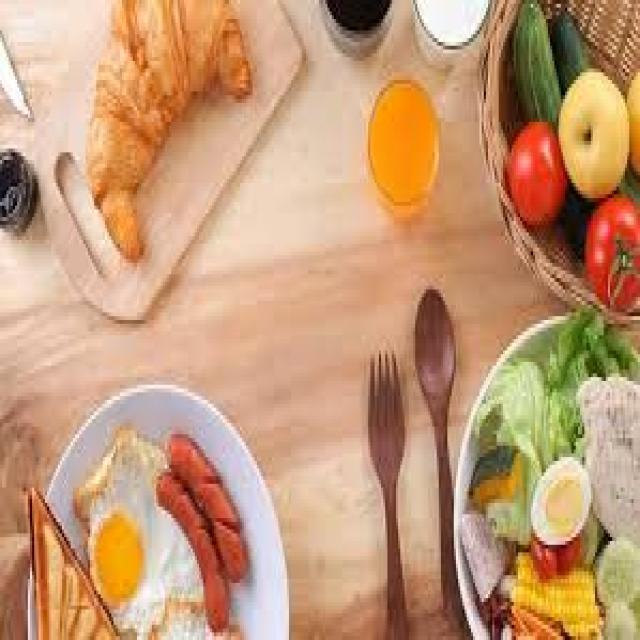Anorganik: (411, 282, 462, 628), (366, 347, 411, 636), (368, 76, 437, 206), (409, 0, 490, 69), (319, 0, 392, 61), (0, 30, 30, 114)
Organik: (82, 0, 250, 263), (68, 423, 240, 636), (552, 12, 614, 255), (26, 480, 118, 636), (544, 308, 634, 454), (154, 477, 227, 632), (167, 434, 244, 579), (574, 369, 638, 541), (554, 61, 628, 198), (368, 76, 439, 214), (499, 548, 595, 632), (501, 115, 563, 232), (477, 354, 548, 454), (582, 190, 638, 312), (509, 0, 561, 126), (526, 450, 593, 544), (460, 503, 512, 598), (595, 537, 638, 636), (464, 442, 518, 514), (152, 602, 242, 636), (627, 61, 638, 175)
